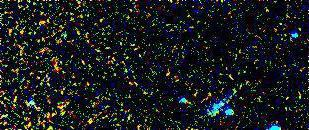star: (208, 91, 238, 121)
